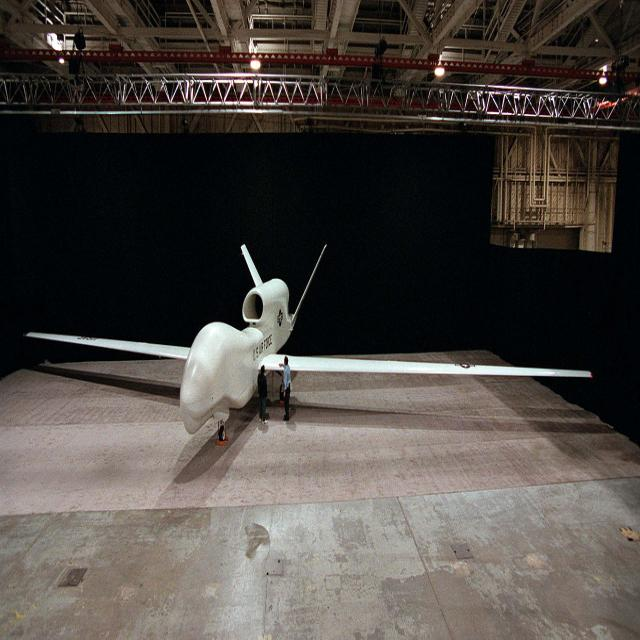MIL_Plane: (23, 243, 593, 440)
